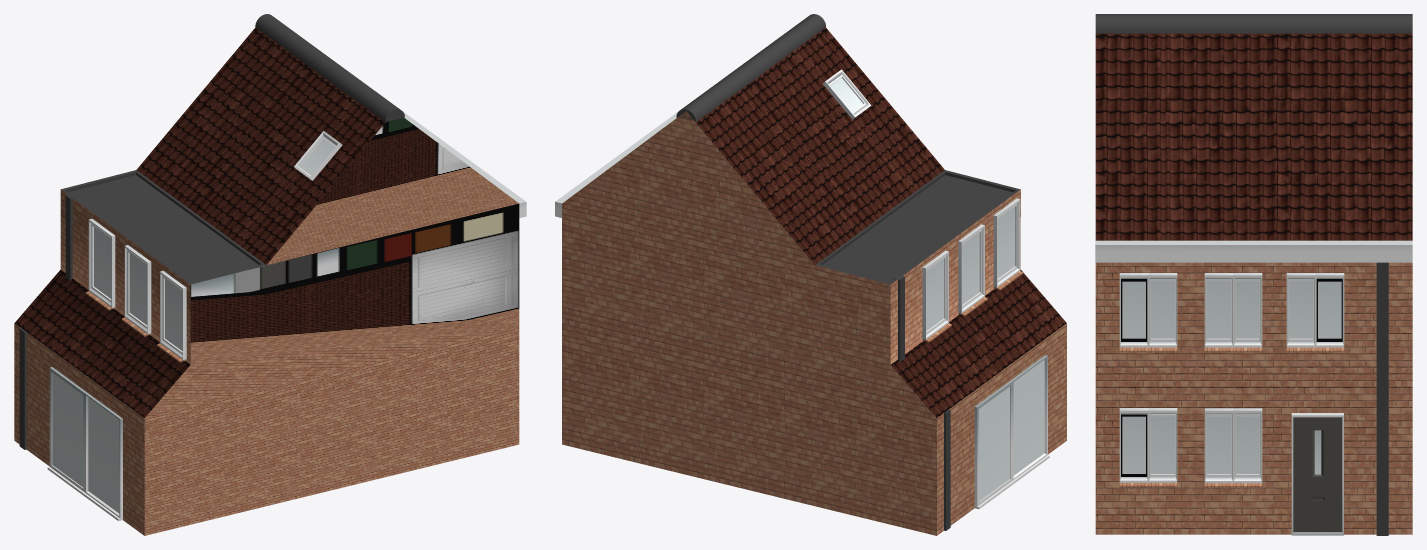
The model's file is It stee 12.fbx.
3 renders of one model, left to right at view 1: azimuth 30°, elevation 25°; view 2: azimuth 150°, elevation 25°; view 3: azimuth 270°, elevation 25°, orthographic. The views are drawn at different scales.
Parts seen in each view (by area): view 1: It_Heafek_18; view 2: It_Heafek_18; view 3: It_Heafek_18.
Boxes of the visible parts, left/top/right/bottom form: It_Heafek_18: left=14, top=14, right=526, bottom=535; It_Heafek_18: left=555, top=14, right=1066, bottom=535; It_Heafek_18: left=1095, top=14, right=1412, bottom=535.
Size of the model in its own units: 977 by 883 by 571.
